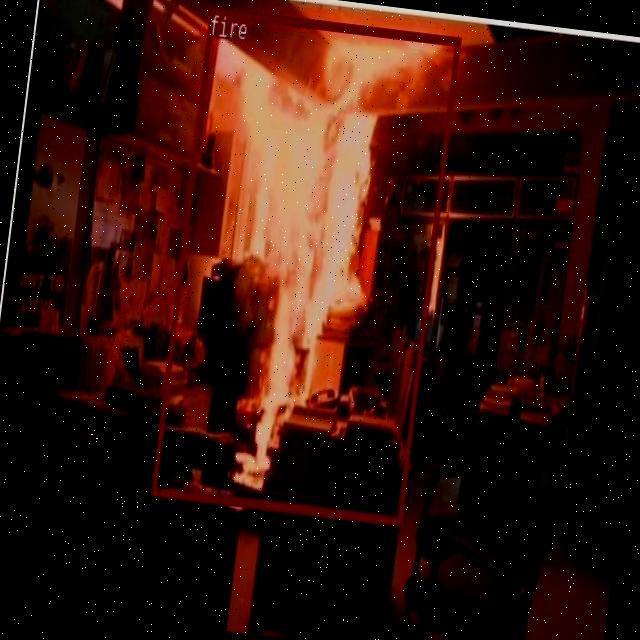fire: (150, 6, 460, 523)
